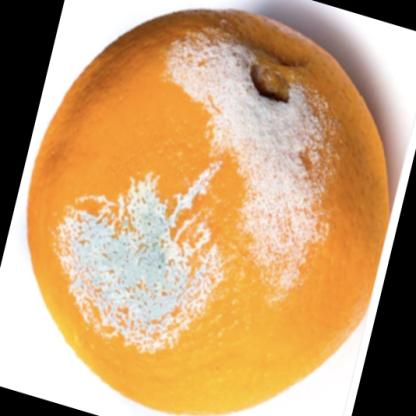rotten: (25, 9, 391, 416)
